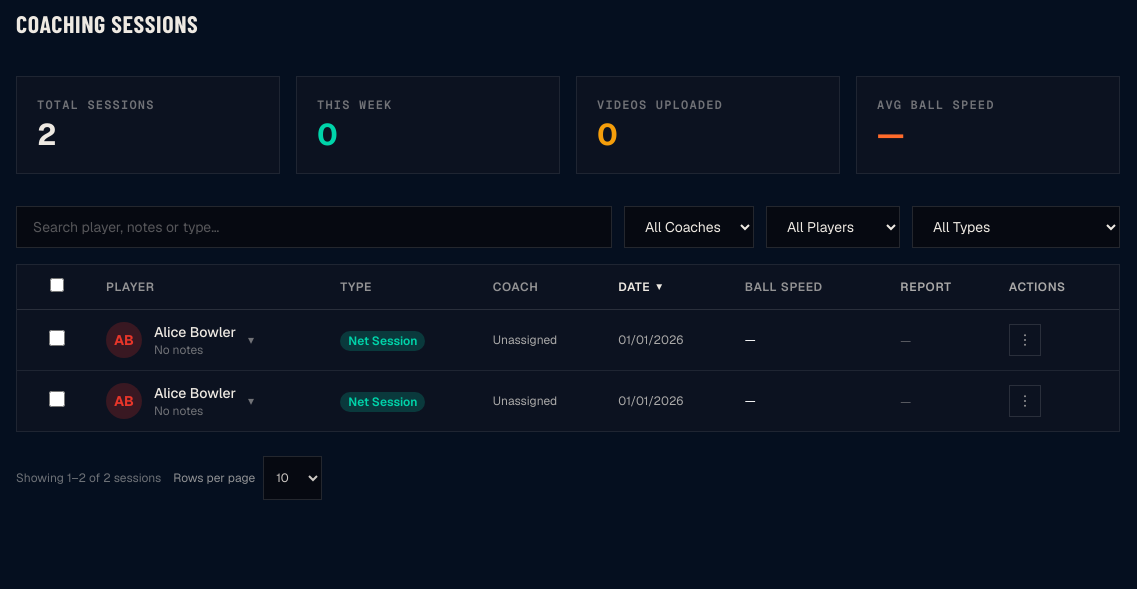
Test: SessionsClient › select-all selects every session currently matching the filters/search
Check: the text "Showing 1–2 of 2 sessions" is shown, box [16, 470, 161, 486]
Step 1. Click the checkbox titled "Select all" → (57, 285), box [50, 278, 64, 292]
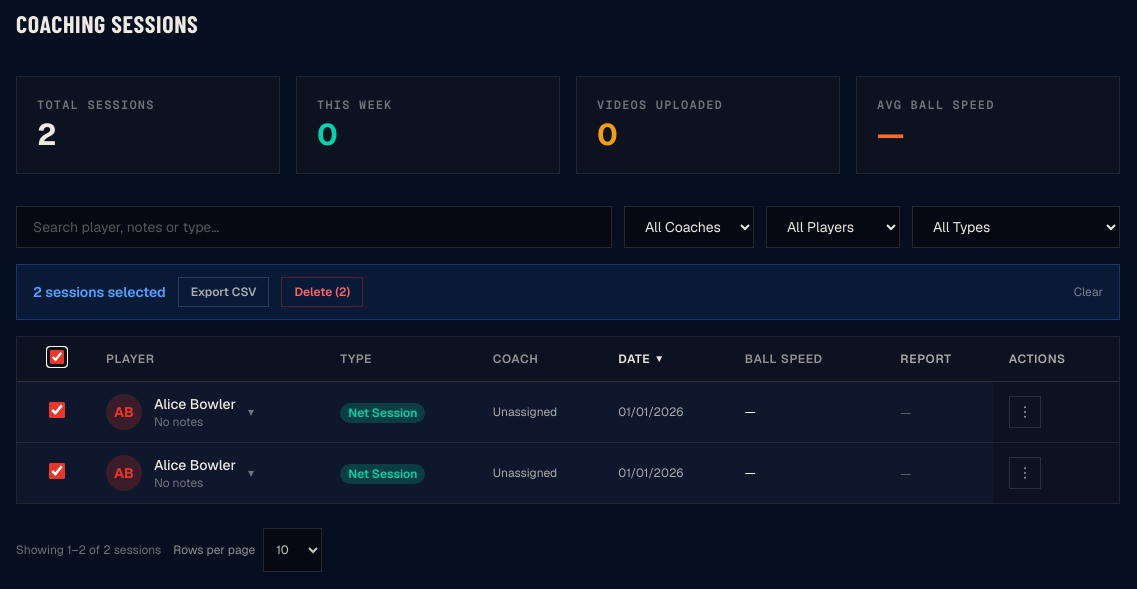
Check: the text "2 sessions selected" is shown, box [33, 282, 166, 302]
Step 2. Click the checkbox titled "Select all" → (57, 357), box [50, 350, 64, 364]
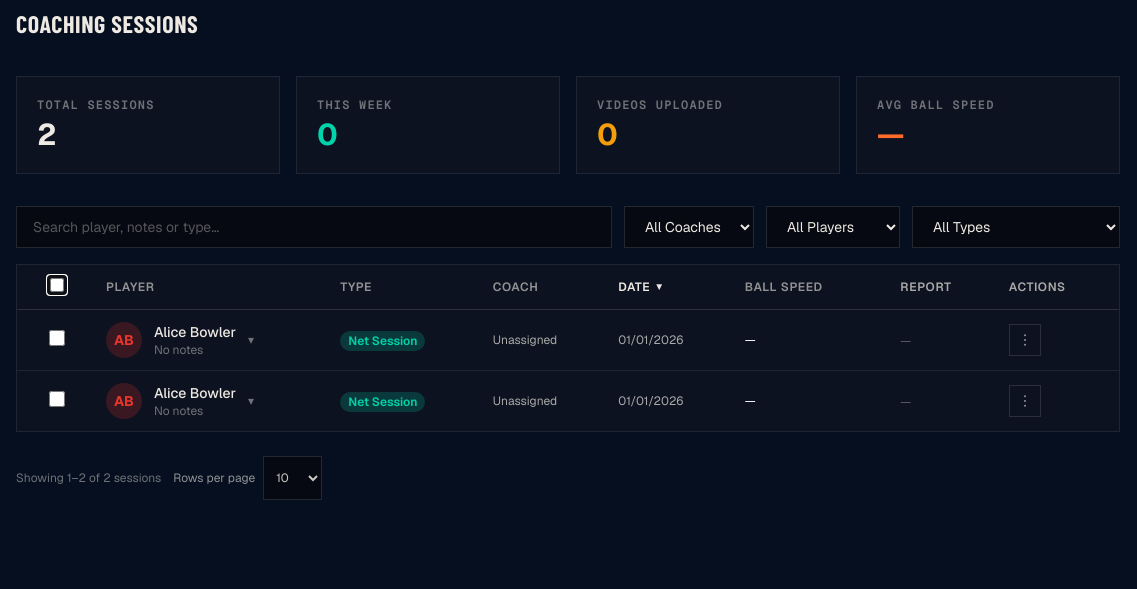
Check: the text "selected" is gone
